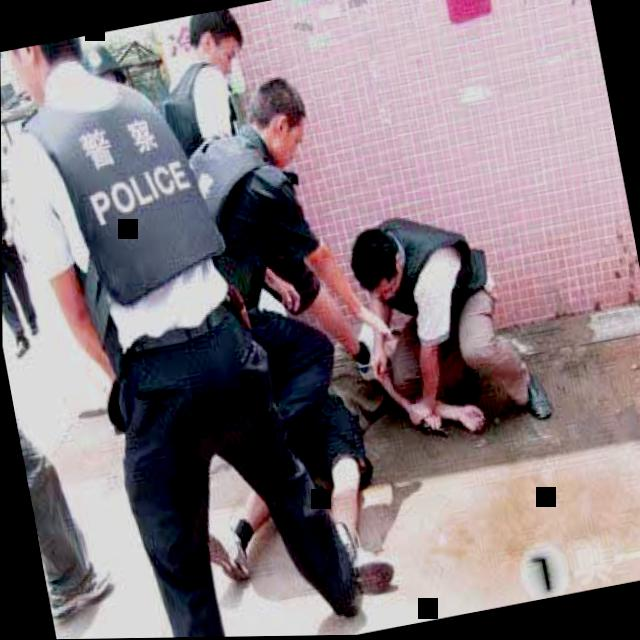Fall-Detected: (174, 272, 484, 620)
